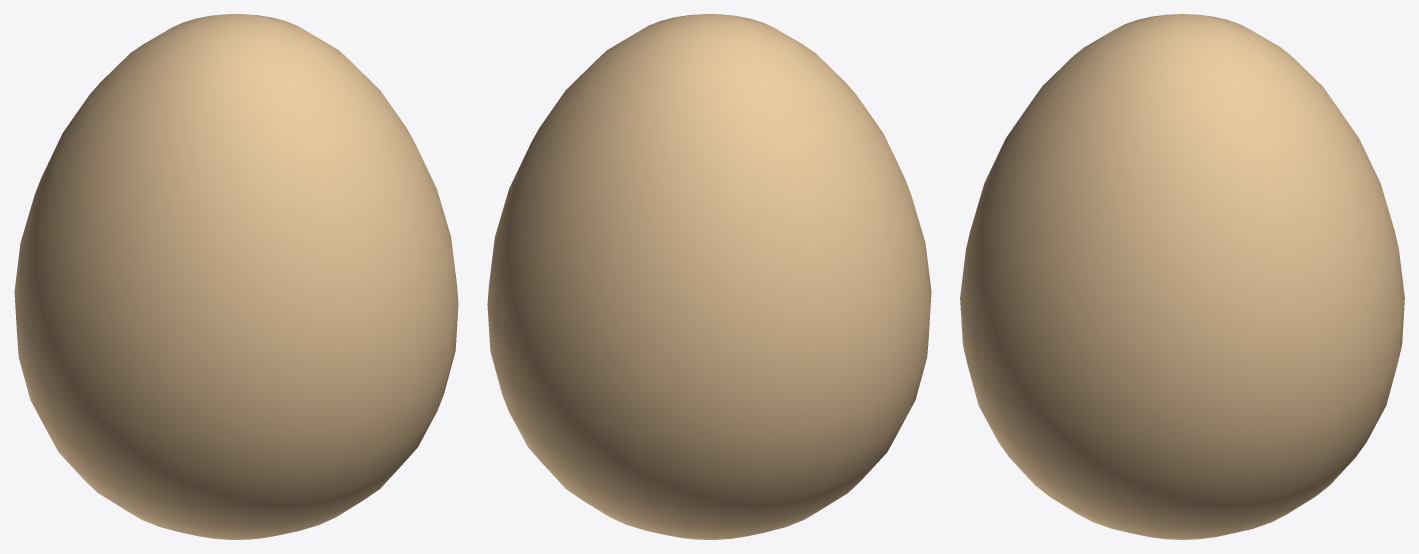
File: jidan.fbx
The picture shows the model from 3 angles, left to right: view 1: azimuth 30°, elevation 25°; view 2: azimuth 150°, elevation 25°; view 3: azimuth 270°, elevation 25°; orthographic projection.
Parts seen in each view (by area): view 1: 鸡蛋; view 2: 鸡蛋; view 3: 鸡蛋.
Part boxes in pixels (x1,y1,x2,y2): 鸡蛋: [14, 14, 458, 539]; 鸡蛋: [487, 14, 931, 539]; 鸡蛋: [960, 14, 1404, 539].
Size of the model in its own units: 67.47 by 82.44 by 67.47.
